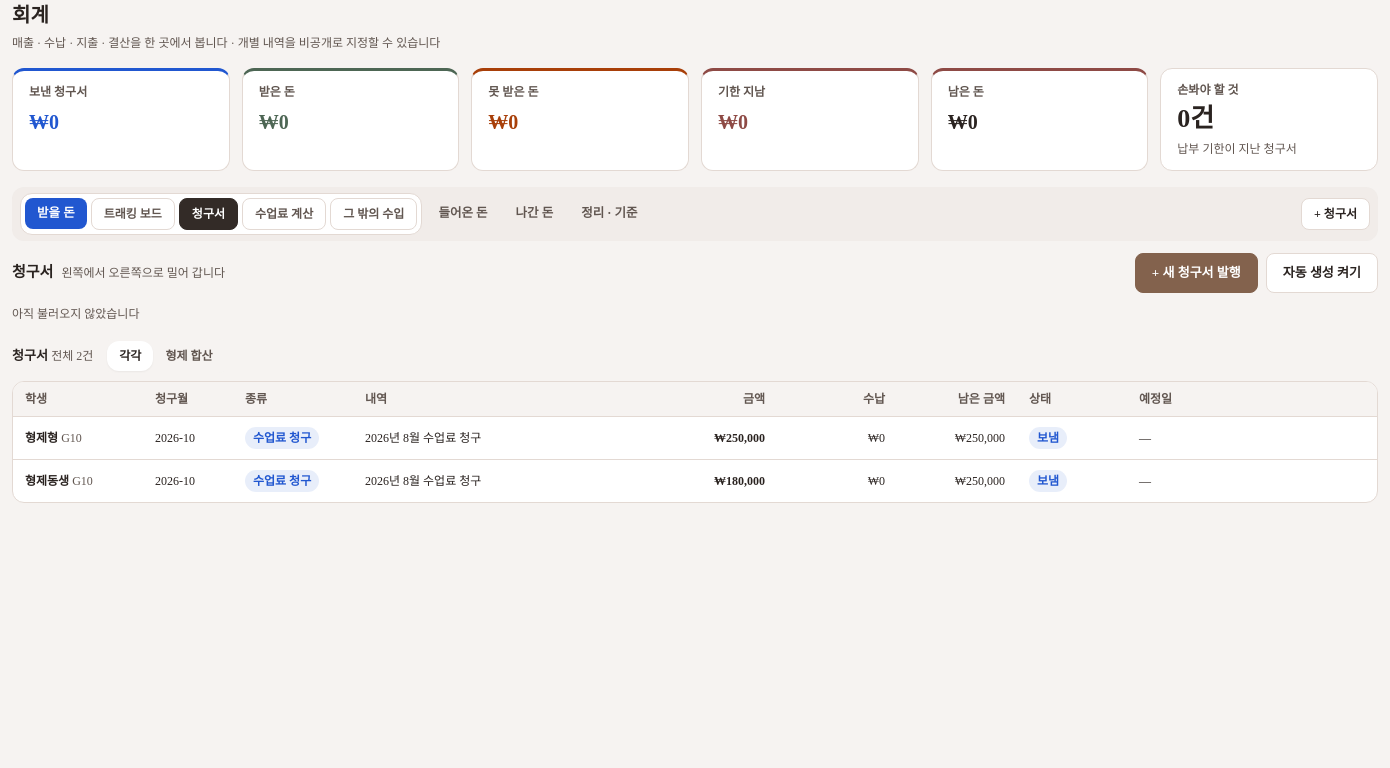
Scenario: 형제 합산을 고르면 서버가 묶은 형제 청구서를 한 줄로 · 합계는 서버 값 · 기본은 각각 (A-13)
Expected: the text "형제동생" is shown, [25, 474, 69, 488]
Click the button "형제 합산" at (189, 356), box [153, 340, 225, 370]
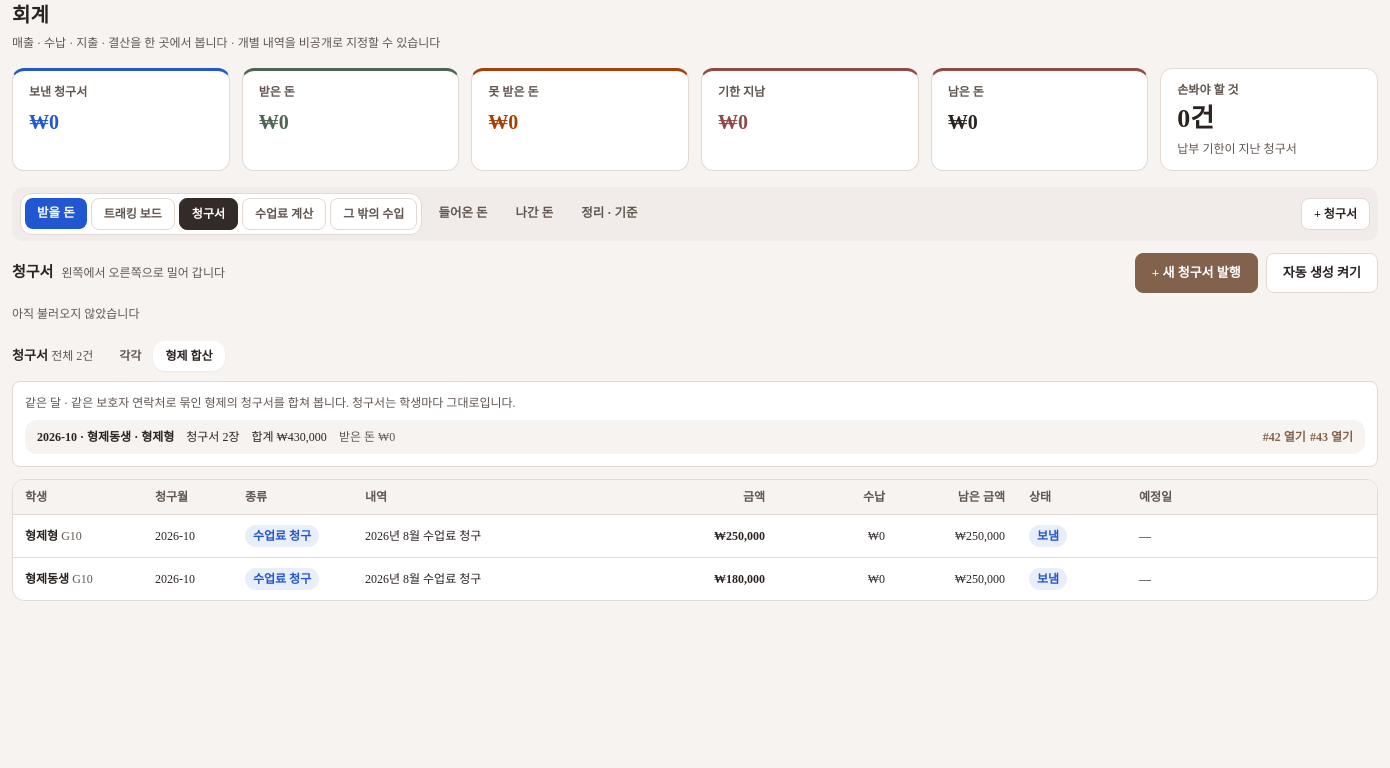
Result: the element named "형제 합산" shows "2026-10 · 형제동생 · 형제형" at [37, 430, 174, 444]
Result: the element named "형제 합산" shows "청구서 2장" at [186, 430, 240, 444]
Result: the element named "형제 합산" shows "합계 ₩430,000" at [252, 430, 327, 444]
